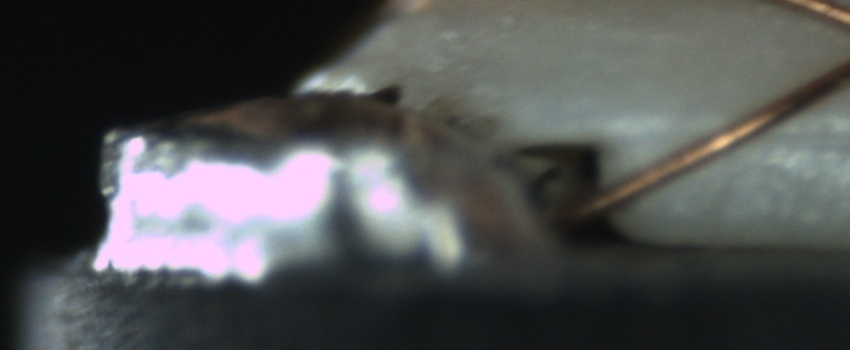DL: (677, 105, 850, 170)
